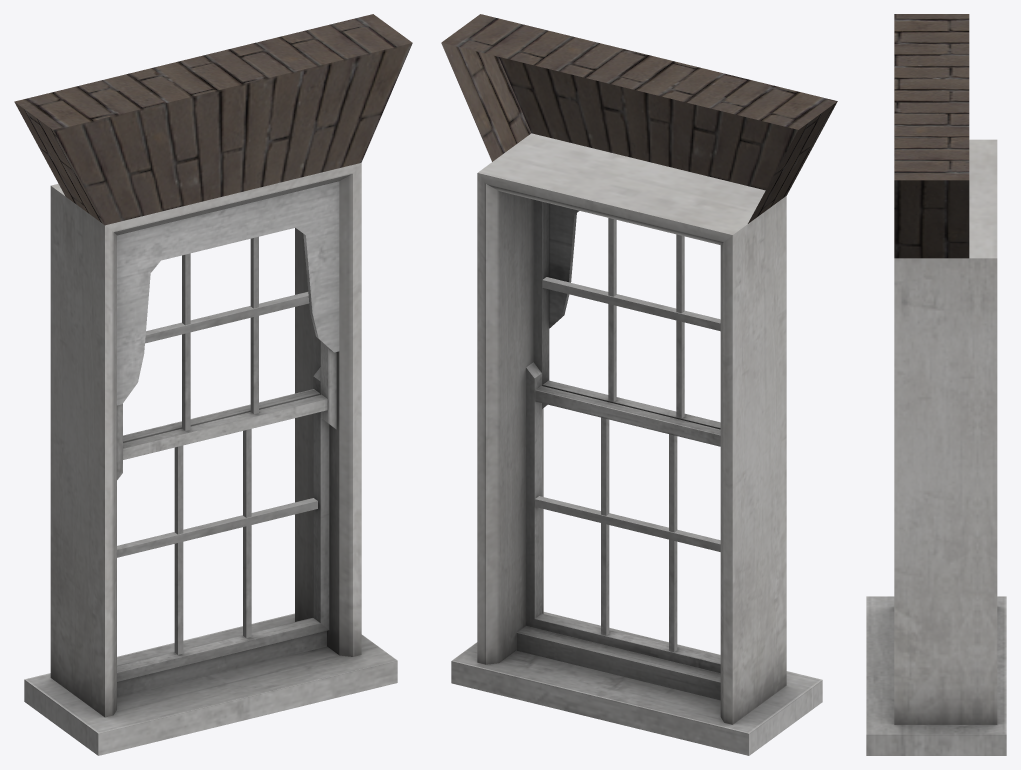
File: Window_01_open.FBX
The picture shows the model from 3 angles, left to right: view 1: azimuth 30°, elevation 25°; view 2: azimuth 150°, elevation 25°; view 3: azimuth 270°, elevation 25°; orthographic projection. The views are drawn at different scales.
Parts seen in each view (by area): view 1: WindowFrame_01; view 2: WindowFrame_01; view 3: WindowFrame_01.
Part boxes in pixels (box(x1,y1,x2,y2)): WindowFrame_01: box(14, 14, 412, 755); WindowFrame_01: box(441, 14, 837, 755); WindowFrame_01: box(866, 14, 1006, 755).
Size of the model in its own units: 84 by 139 by 30.
Materials: 1 (1 with a texture image).
